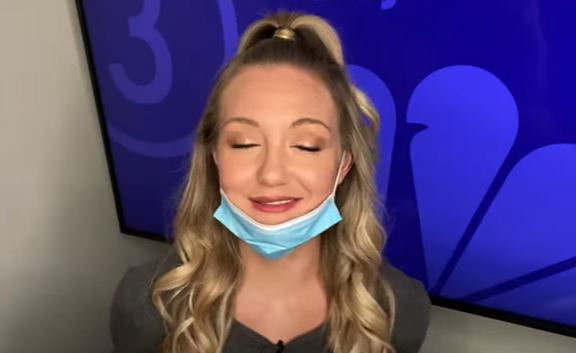with_incorrect_mask: (221, 109, 332, 237)
